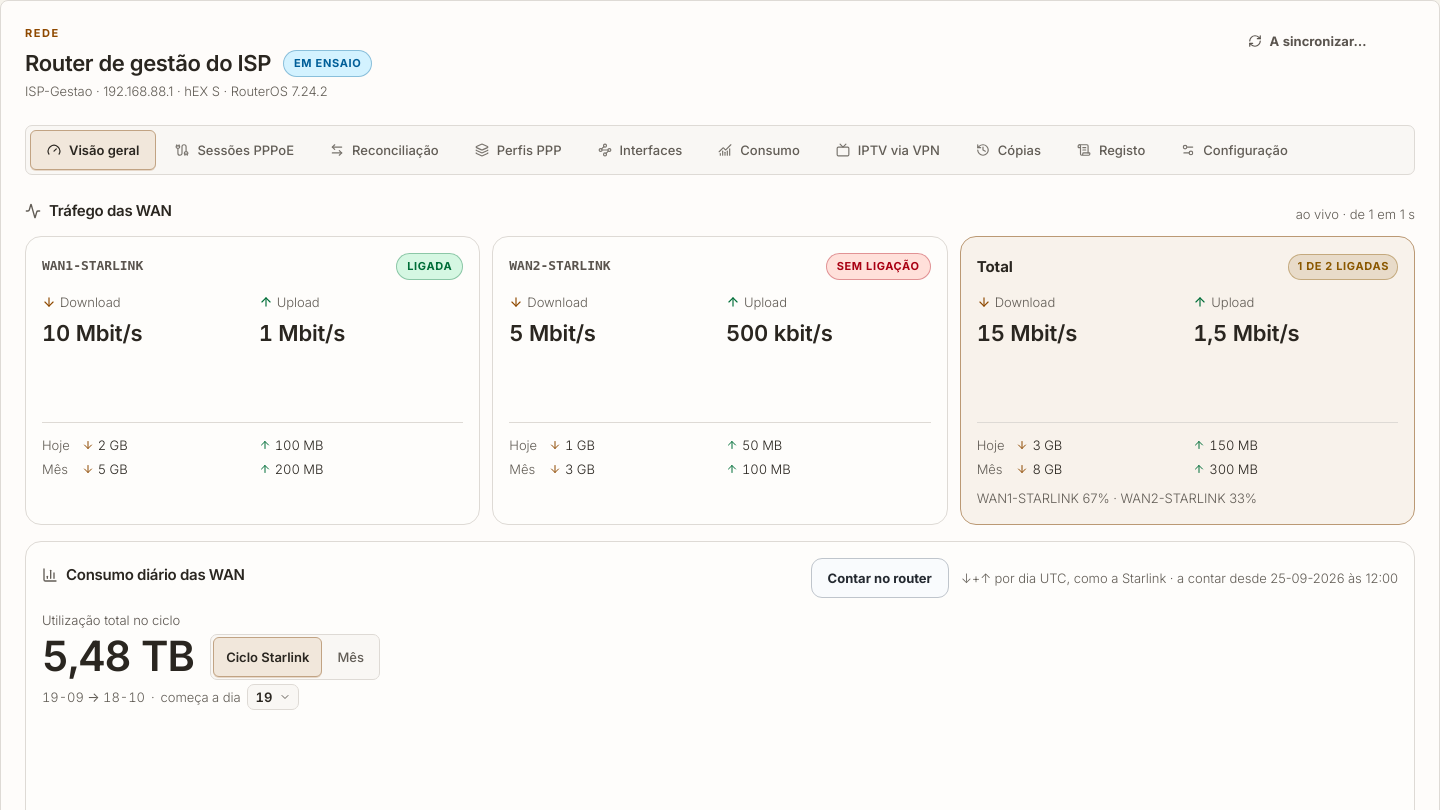
Scenario: Router de gestão › o registo resume o que pede ação e filtra só erros e avisos
Click the tab with id "router-tab-log": click(1111, 150) [1060, 130, 1162, 170]
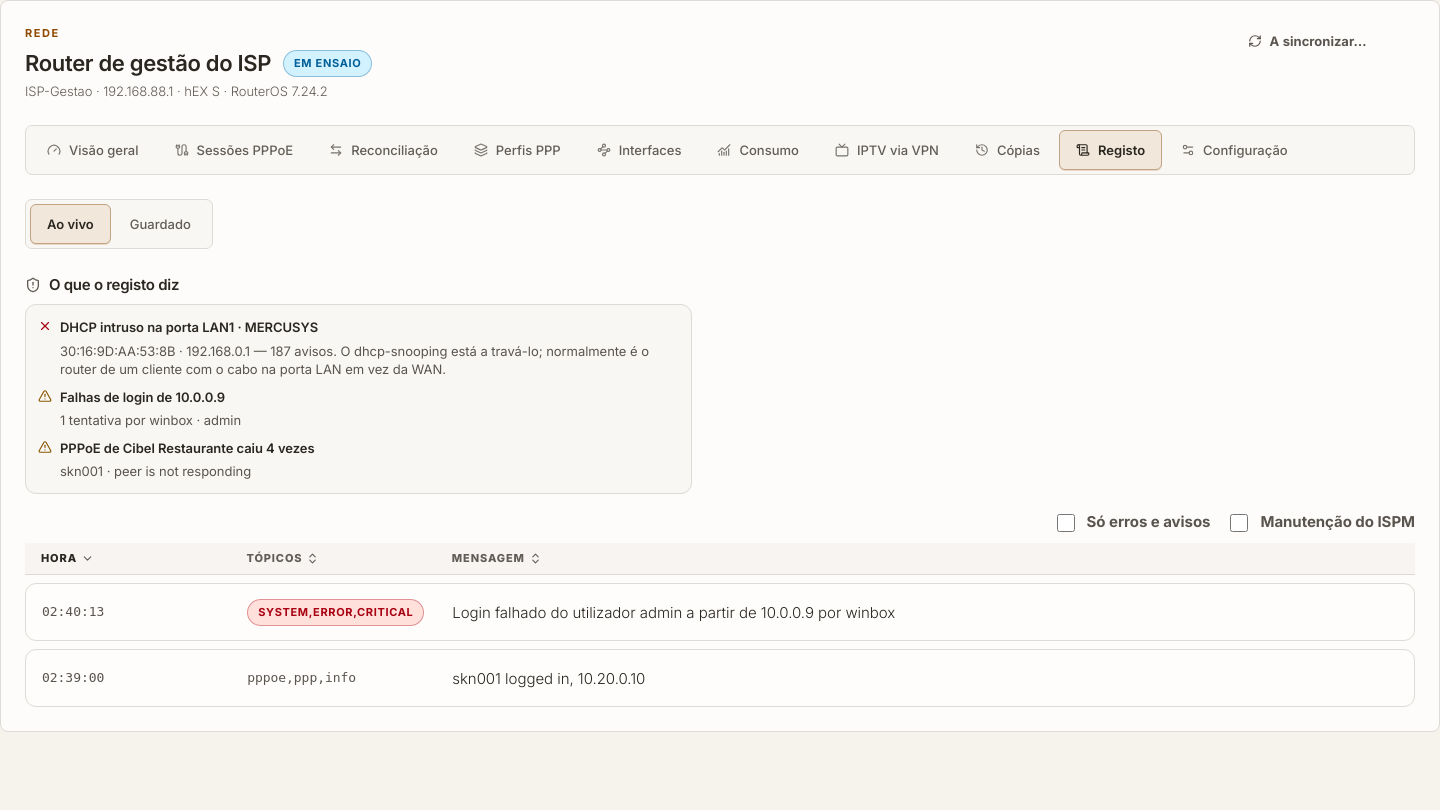
Check: the text "30:16:9D:AA:53:8B · 192.168.0.1 — 187 avisos" is shown, box [60, 343, 649, 377]
Check: the text "1 tentativa por winbox · admin" is shown, box [60, 412, 241, 428]
Check: the number of rows with class "data-table-row" is 2, box [25, 583, 1415, 641]; [25, 649, 1415, 707]
Click the checkbox labelled "Manutenção do ISPM": click(1240, 523) [1230, 514, 1248, 532]
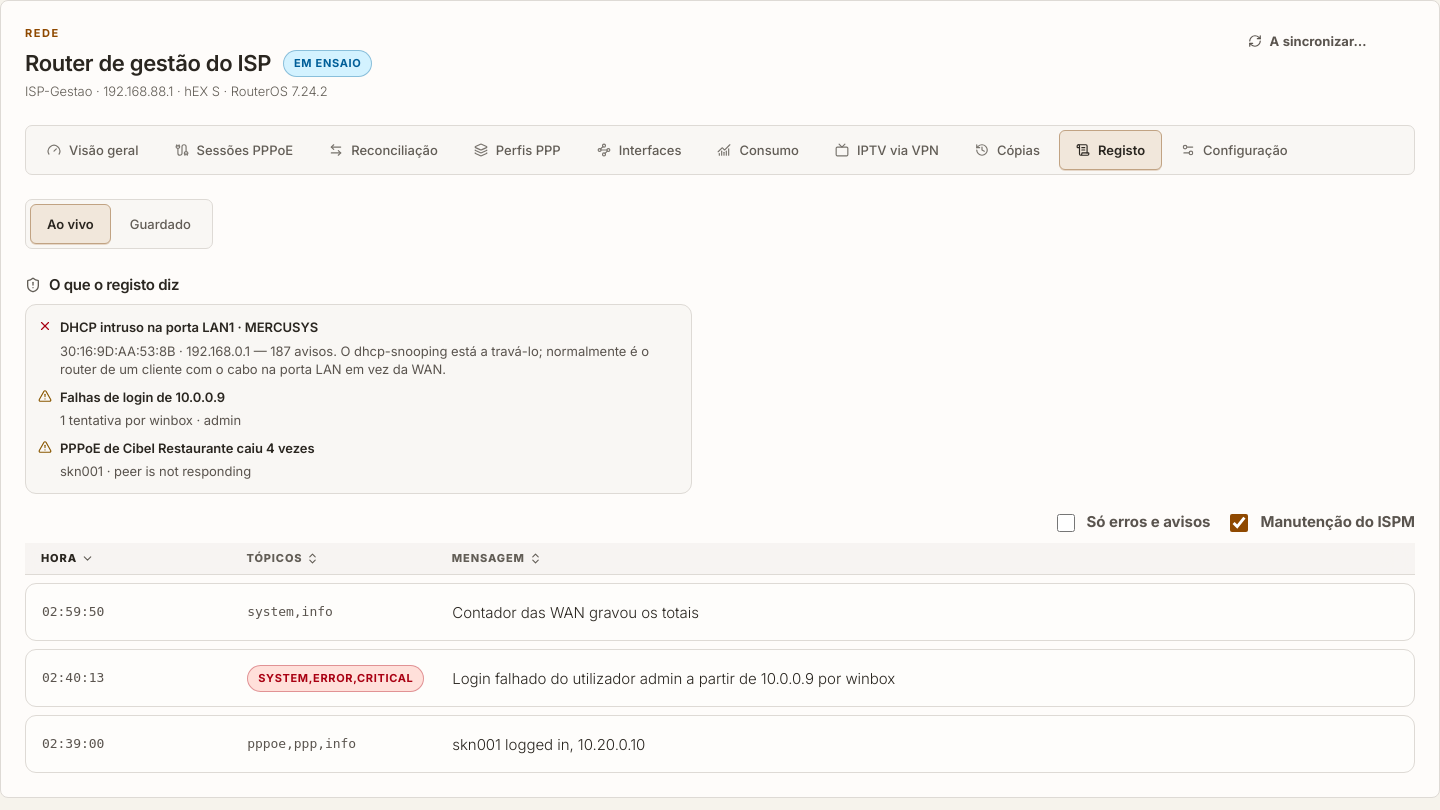
Check: the number of rows with class "data-table-row" is 3, box [25, 583, 1415, 641]; [25, 649, 1415, 707]; [25, 715, 1415, 773]
Check: the text "Contador das WAN gravou os totais" is shown, box [452, 603, 699, 622]
Click the checkbox labelled "Manutenção do ISPM": click(1240, 523) [1230, 514, 1248, 532]
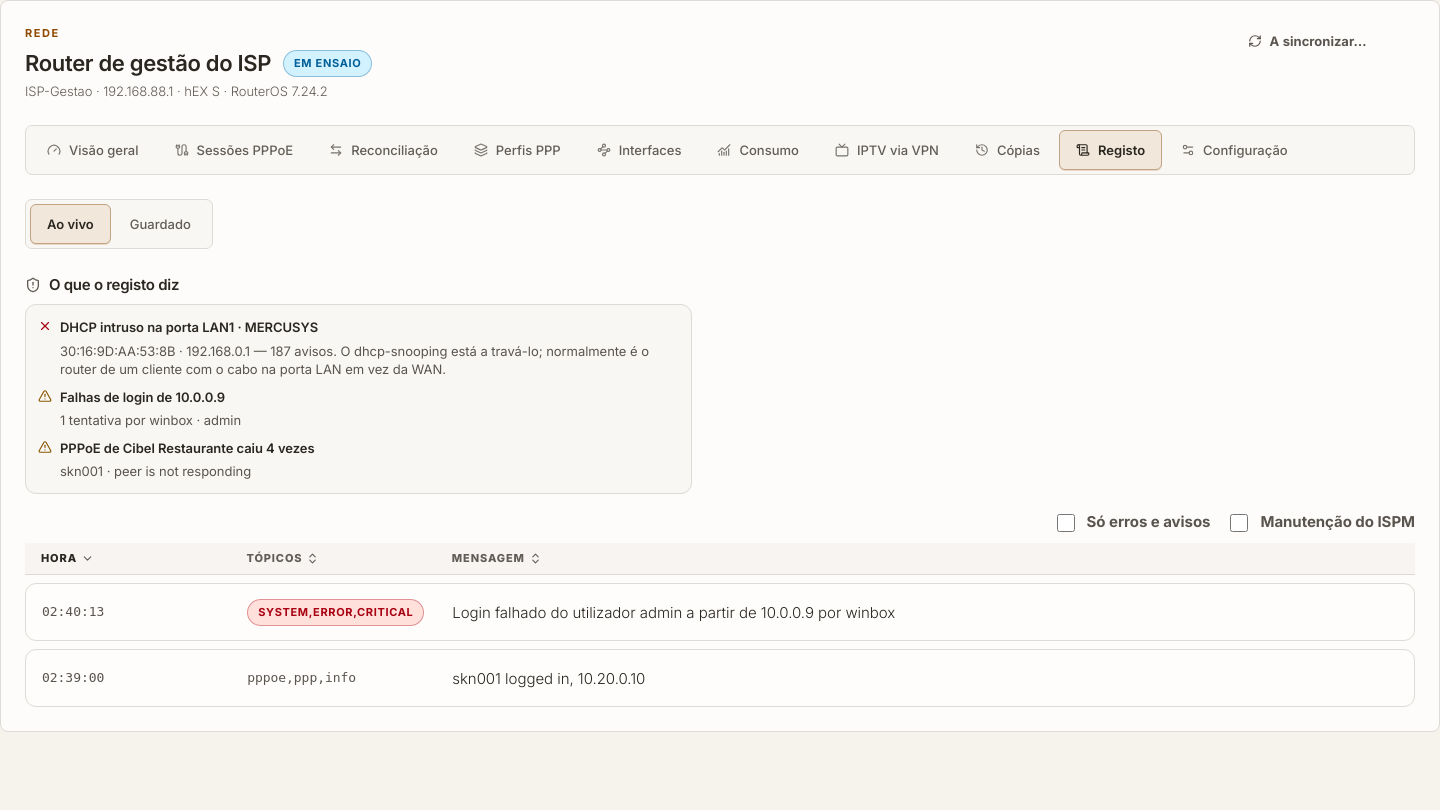
Click the checkbox labelled "Só erros e avisos": click(1066, 523) [1057, 514, 1075, 532]
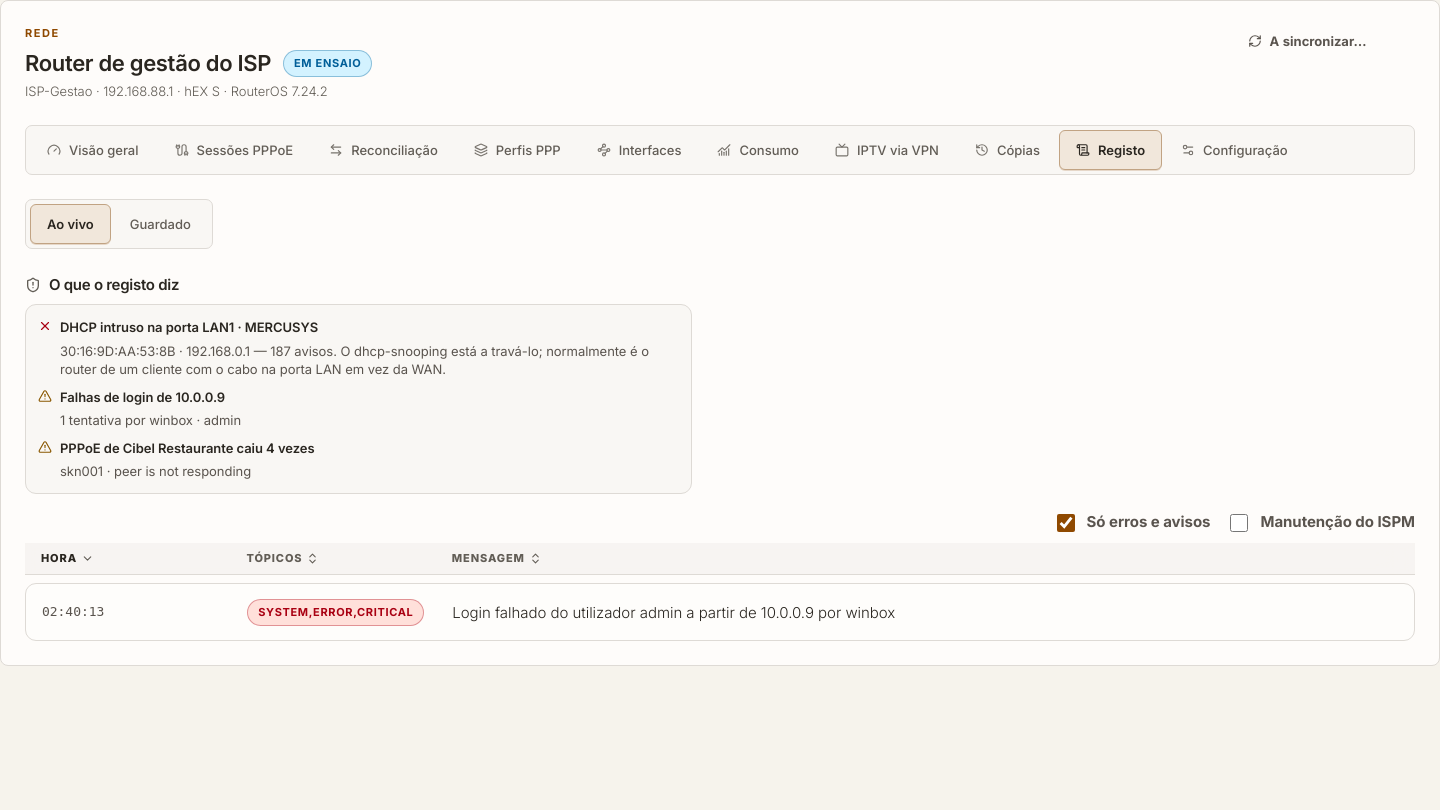
Check: the number of rows with class "data-table-row" is 1, box [25, 583, 1415, 641]
Check: the text "skn001 logged in" is gone
